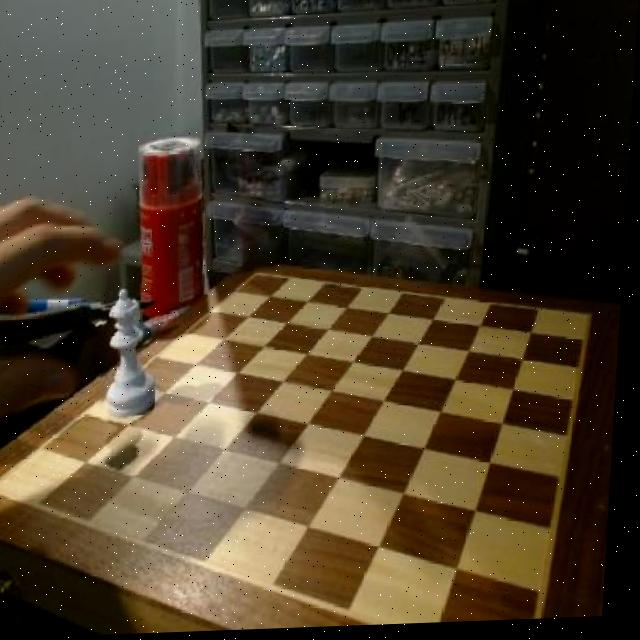white-pawn: (100, 283, 167, 424)
